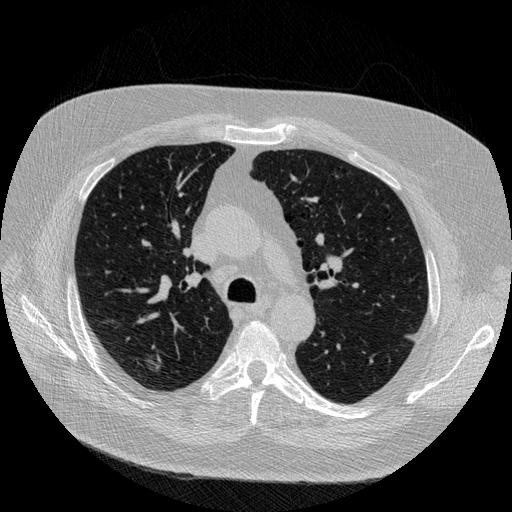nodule: (142, 352, 164, 374)
